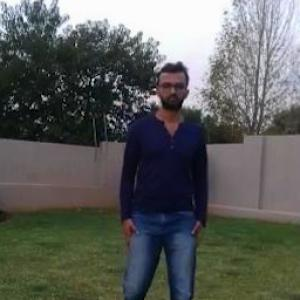follow: (132, 82, 208, 299)
